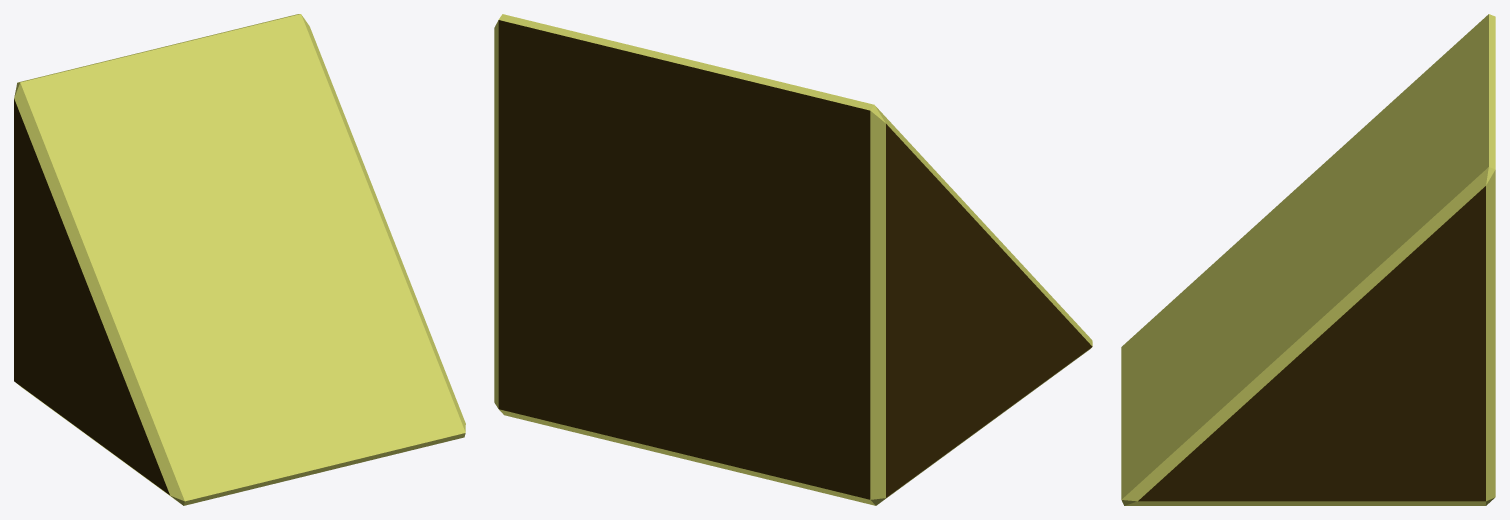
File: pokat48.fbx
3 views of the same model, side by side, from view 1: azimuth 30°, elevation 25°; view 2: azimuth 150°, elevation 25°; view 3: azimuth 270°, elevation 25° (orthographic). The views are drawn at different scales.
Parts seen in each view (by area): view 1: Cube; view 2: Cube; view 3: Cube.
Part boxes in pixels (left/top/right/bottom): Cube: left=14, top=14, right=465, bottom=505; Cube: left=494, top=14, right=1092, bottom=505; Cube: left=1121, top=14, right=1495, bottom=505.
Bounding box in the file's own units: 2 × 1.96 × 1.96.
